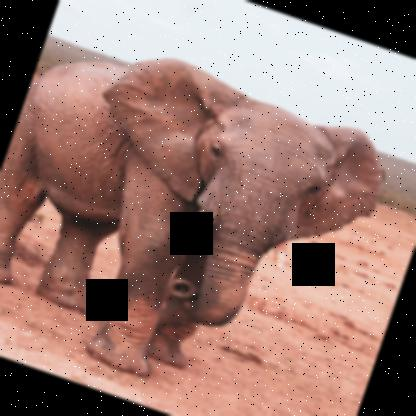Elephas-maximus: (0, 15, 401, 415)
